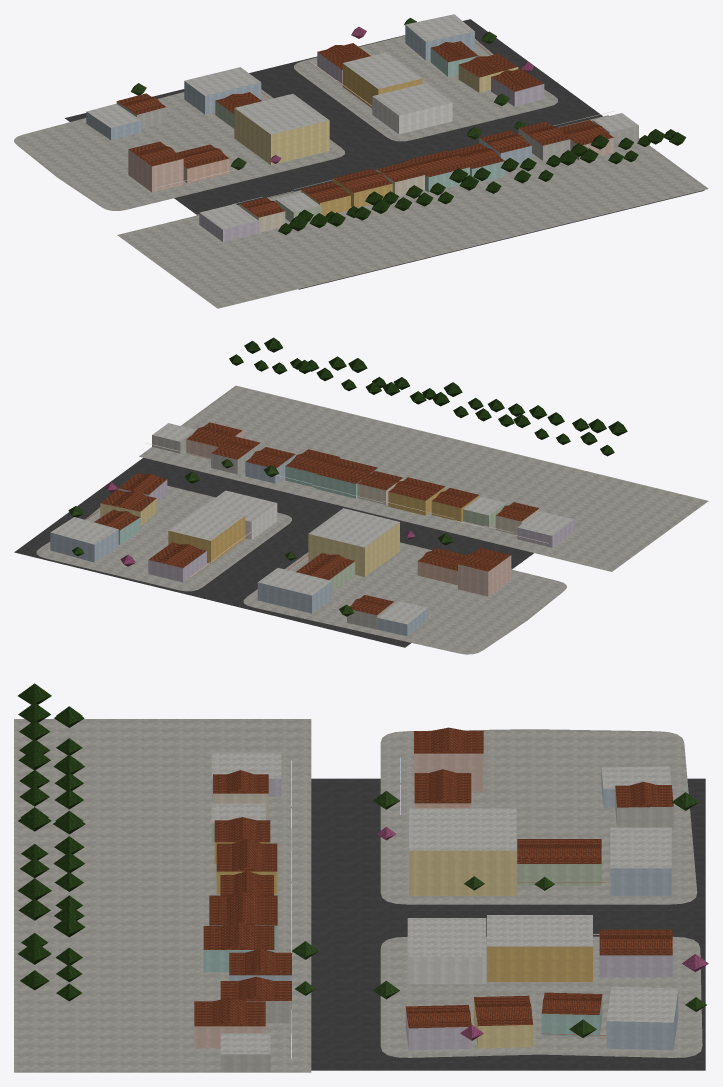
Rendered from cidade_S02_00_lod.gltf.
3 renders of one model, top to bottom at view 1: azimuth 30°, elevation 25°; view 2: azimuth 150°, elevation 25°; view 3: azimuth 270°, elevation 25°, orthographic. The views are drawn at different scales.
Parts seen in each view (by area): view 1: S02_00_Chao_LOD2, S02_00_Edificios_LOD1, S02_00_Silhueta_LOD2, S02_00_Vegetacao_LOD2; view 2: S02_00_Chao_LOD2, S02_00_Edificios_LOD1, S02_00_Silhueta_LOD2, S02_00_Vegetacao_LOD2; view 3: S02_00_Chao_LOD2, S02_00_Edificios_LOD1, S02_00_Silhueta_LOD2, S02_00_Vegetacao_LOD2.
Boxes of the visible parts, x1,y1,x2,y2 form: S02_00_Chao_LOD2: (14, 19, 708, 308); S02_00_Edificios_LOD1: (86, 14, 638, 241); S02_00_Silhueta_LOD2: (116, 41, 613, 232); S02_00_Vegetacao_LOD2: (130, 18, 686, 234); S02_00_Chao_LOD2: (14, 385, 708, 654); S02_00_Edificios_LOD1: (50, 423, 574, 635); S02_00_Silhueta_LOD2: (94, 422, 539, 628); S02_00_Vegetacao_LOD2: (68, 337, 627, 616); S02_00_Chao_LOD2: (14, 719, 705, 1072); S02_00_Edificios_LOD1: (194, 727, 678, 1072); S02_00_Silhueta_LOD2: (194, 731, 673, 1050); S02_00_Vegetacao_LOD2: (17, 683, 708, 1040).
Size of the model in its own units: 121 by 15.91 by 100.
Materials: 20 (20 with a texture image).
